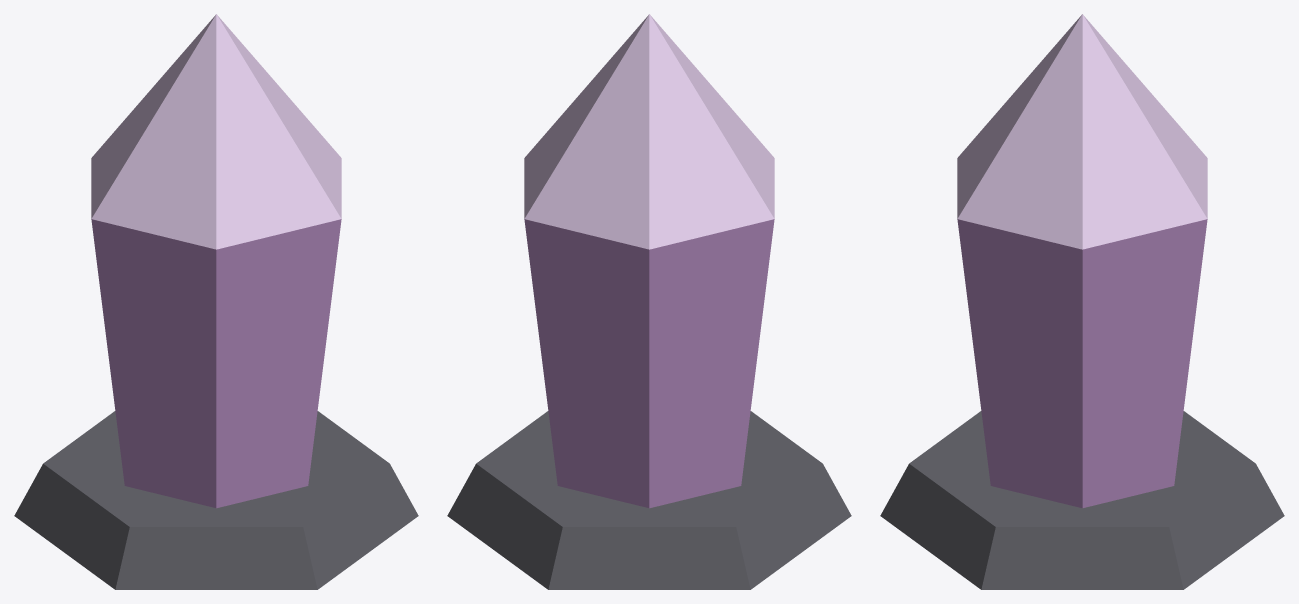
File: cristal.glb
The picture shows the model from 3 angles, left to right: view 1: azimuth 30°, elevation 25°; view 2: azimuth 150°, elevation 25°; view 3: azimuth 270°, elevation 25°; orthographic projection.
Parts seen in each view (by area): view 1: modelo; view 2: modelo; view 3: modelo.
Part boxes in pixels (x1,y1,x2,y2): modelo: (14, 14, 418, 589); modelo: (447, 14, 851, 589); modelo: (880, 14, 1284, 589).
Size of the model in its own units: 0.7275 by 1.15 by 0.84.
